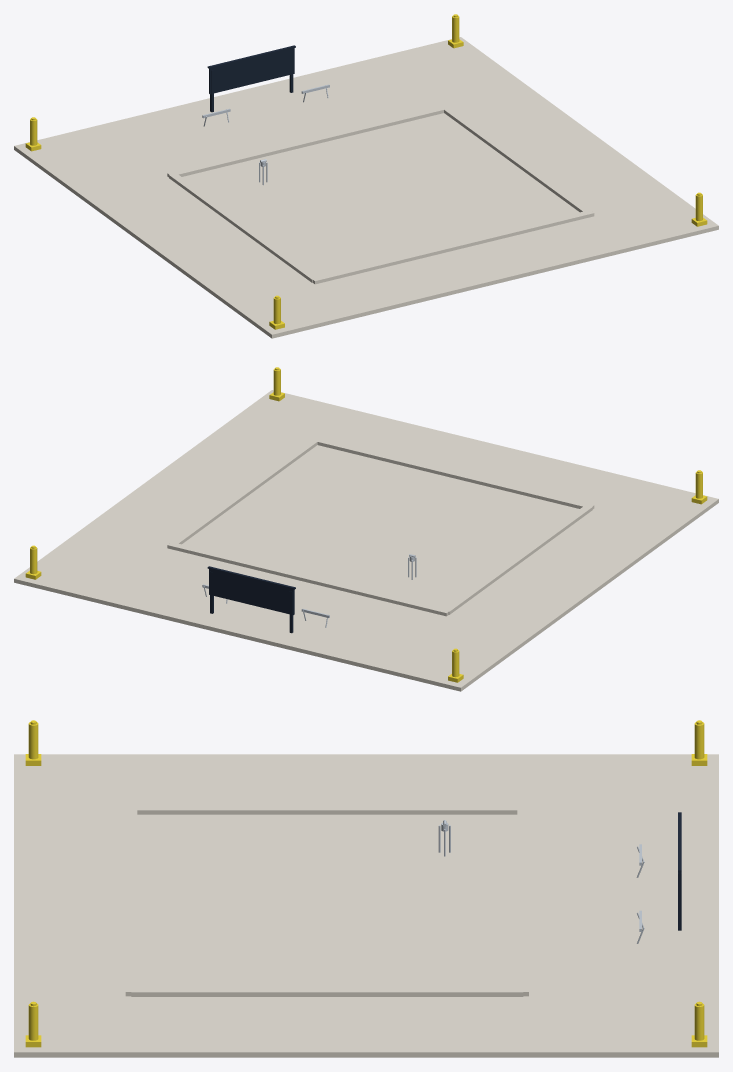
File: hq_11_procurement_l0.glb
3 renders of one model, top to bottom at view 1: azimuth 30°, elevation 25°; view 2: azimuth 150°, elevation 25°; view 3: azimuth 270°, elevation 25°, orthographic. The views are drawn at different scales.
Visible parts, largest first — view 1: GEO_Procurement_Plot_Excavation_Pad, GEO_Procurement_Foundation_Trench_Curbs, GEO_Procurement_Project_Billboard, GEO_Procurement_Survey_Boundary_Pylons; view 2: GEO_Procurement_Plot_Excavation_Pad, GEO_Procurement_Foundation_Trench_Curbs, GEO_Procurement_Project_Billboard, GEO_Procurement_Survey_Boundary_Pylons; view 3: GEO_Procurement_Plot_Excavation_Pad, GEO_Procurement_Foundation_Trench_Curbs, GEO_Procurement_Survey_Boundary_Pylons.
Part boxes in pixels (box(x1,y1,x2,y2)): GEO_Procurement_Plot_Excavation_Pad: box(14, 37, 718, 338); GEO_Procurement_Foundation_Trench_Curbs: box(167, 105, 594, 284); GEO_Procurement_Project_Billboard: box(207, 45, 295, 112); GEO_Procurement_Survey_Boundary_Pylons: box(25, 14, 707, 329); GEO_Procurement_Plot_Excavation_Pad: box(14, 390, 718, 691); GEO_Procurement_Foundation_Trench_Curbs: box(167, 437, 594, 616); GEO_Procurement_Project_Billboard: box(207, 566, 295, 633); GEO_Procurement_Survey_Boundary_Pylons: box(25, 367, 707, 682); GEO_Procurement_Plot_Excavation_Pad: box(14, 754, 718, 1057); GEO_Procurement_Foundation_Trench_Curbs: box(125, 805, 528, 996); GEO_Procurement_Survey_Boundary_Pylons: box(25, 720, 707, 1047).
Size of what is drawn, in the model's own units: 36 by 3.8 by 36.
